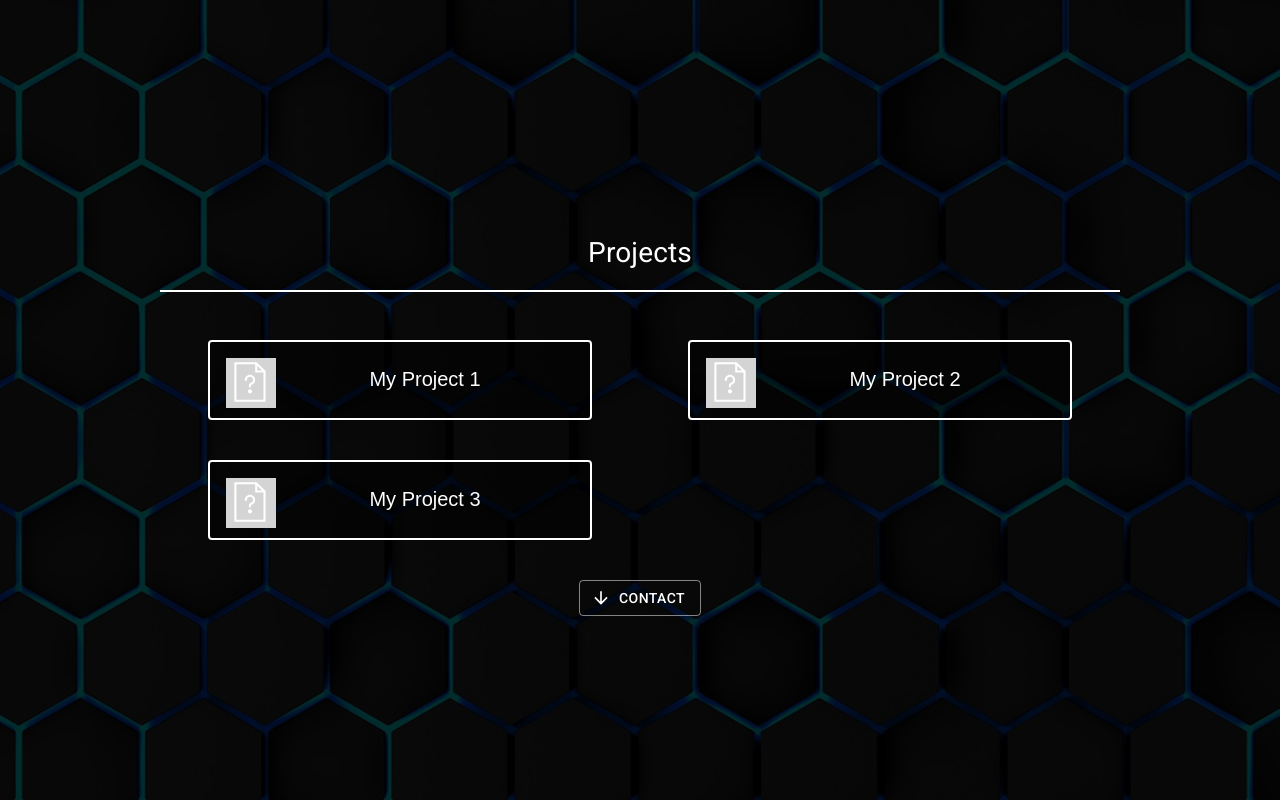
Test: Test the projects section › open the projects section, open the first project and check that a modal opens
(page scrolled)
Click the button with test id "project1-button" at (400, 380), box [208,340,592,420]
(page scrolled)
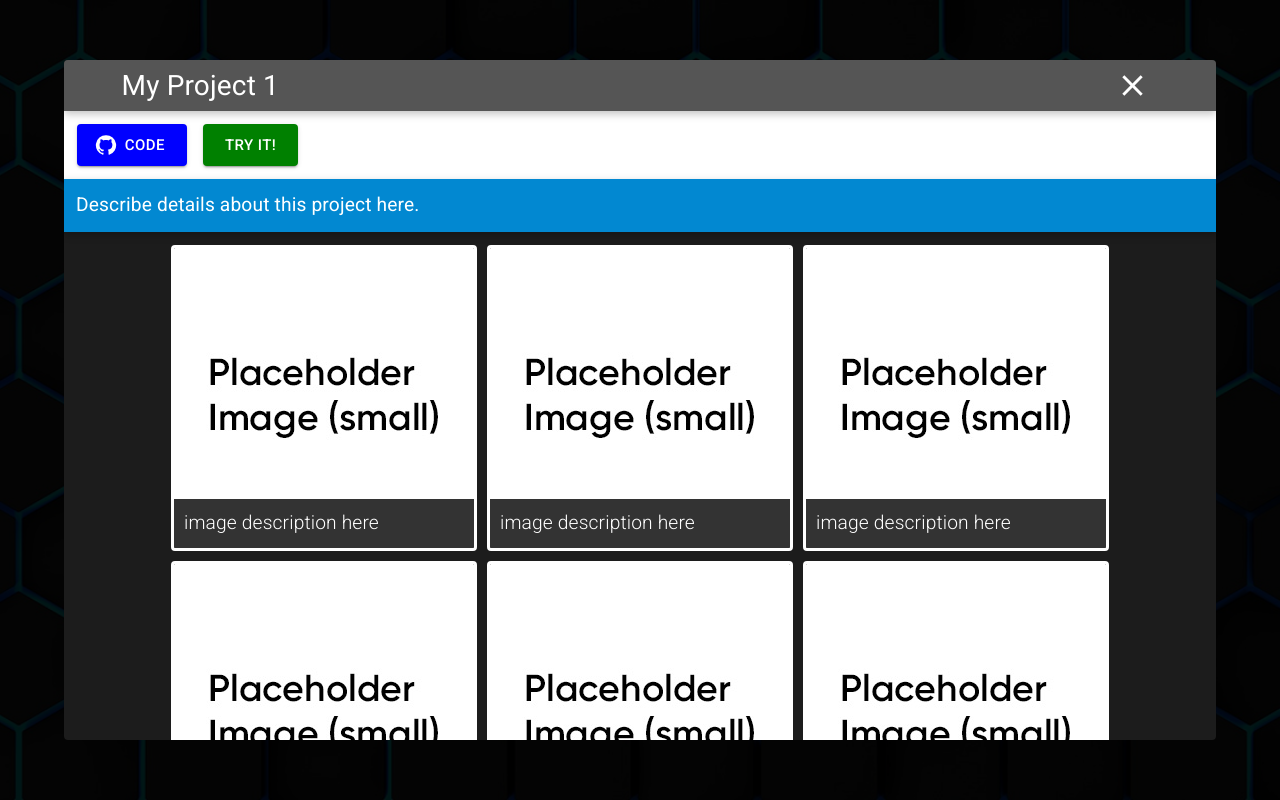
Expected: the element with test id "projects-modal-content-box" is shown
